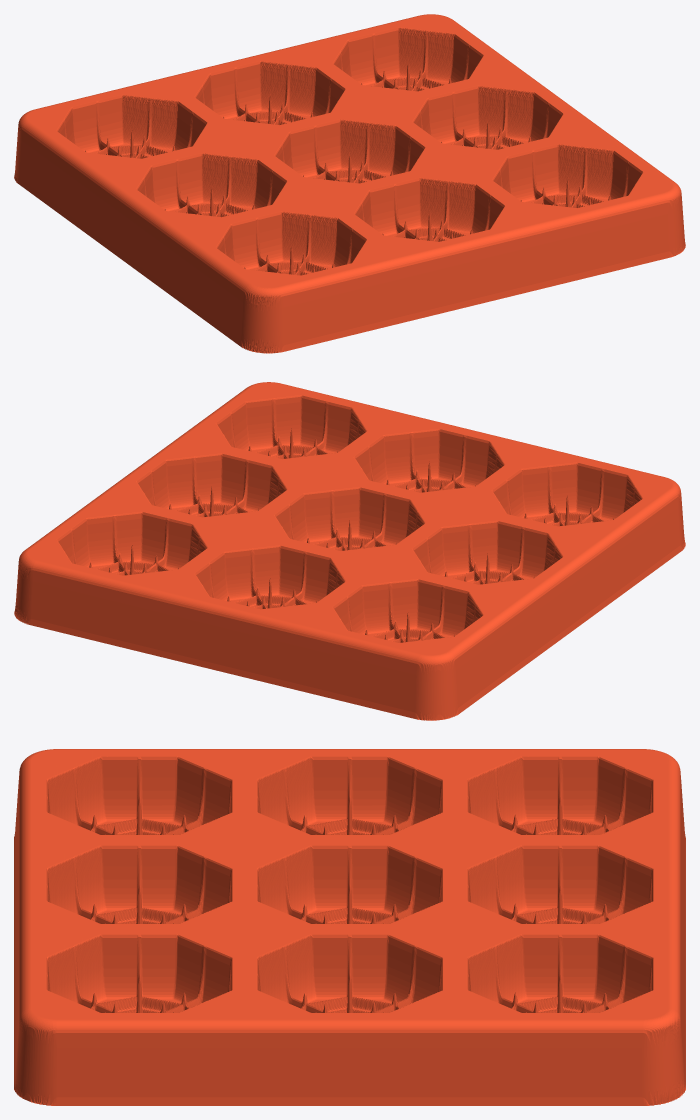
The model's file is mold.glb.
The picture shows the model from 3 angles, top to bottom: view 1: azimuth 30°, elevation 25°; view 2: azimuth 150°, elevation 25°; view 3: azimuth 270°, elevation 25°; orthographic projection. The views are drawn at different scales.
Parts seen in each view (by area): view 1: geometry_0; view 2: geometry_0; view 3: geometry_0.
Boxes of the visible parts, <box> form: geometry_0: <box>14,14,685,353</box>; geometry_0: <box>14,382,685,720</box>; geometry_0: <box>14,749,685,1105</box>.
Size of the model in its own units: 0.1402 by 0.0182 by 0.1402.
